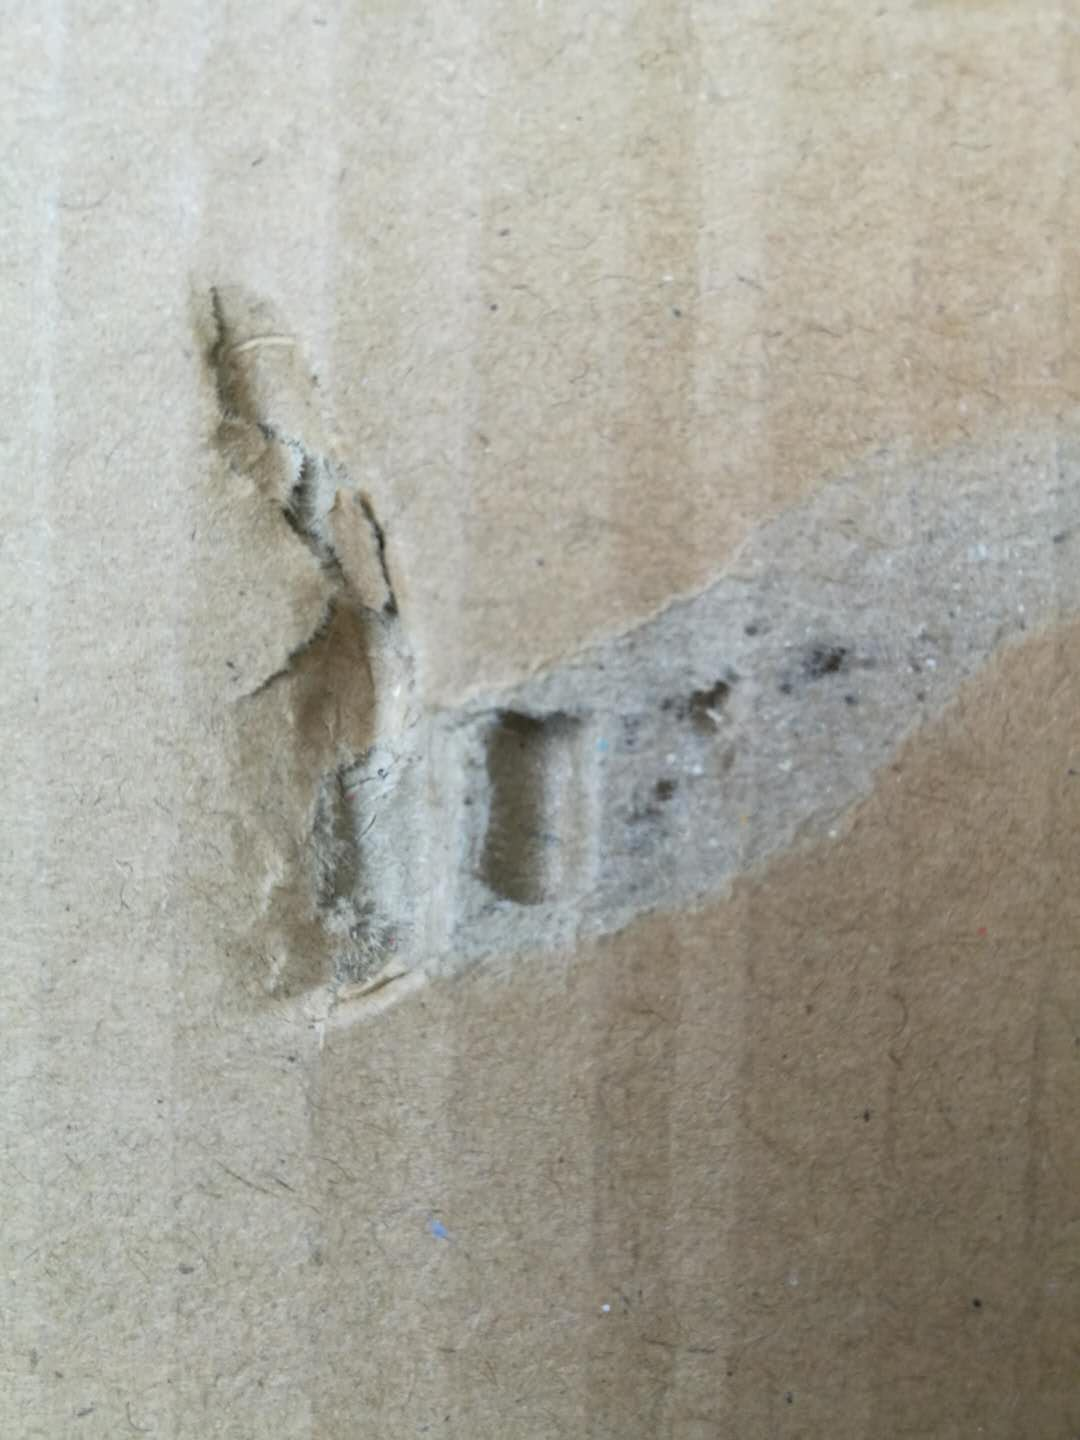defect: (120, 207, 1080, 1140)
